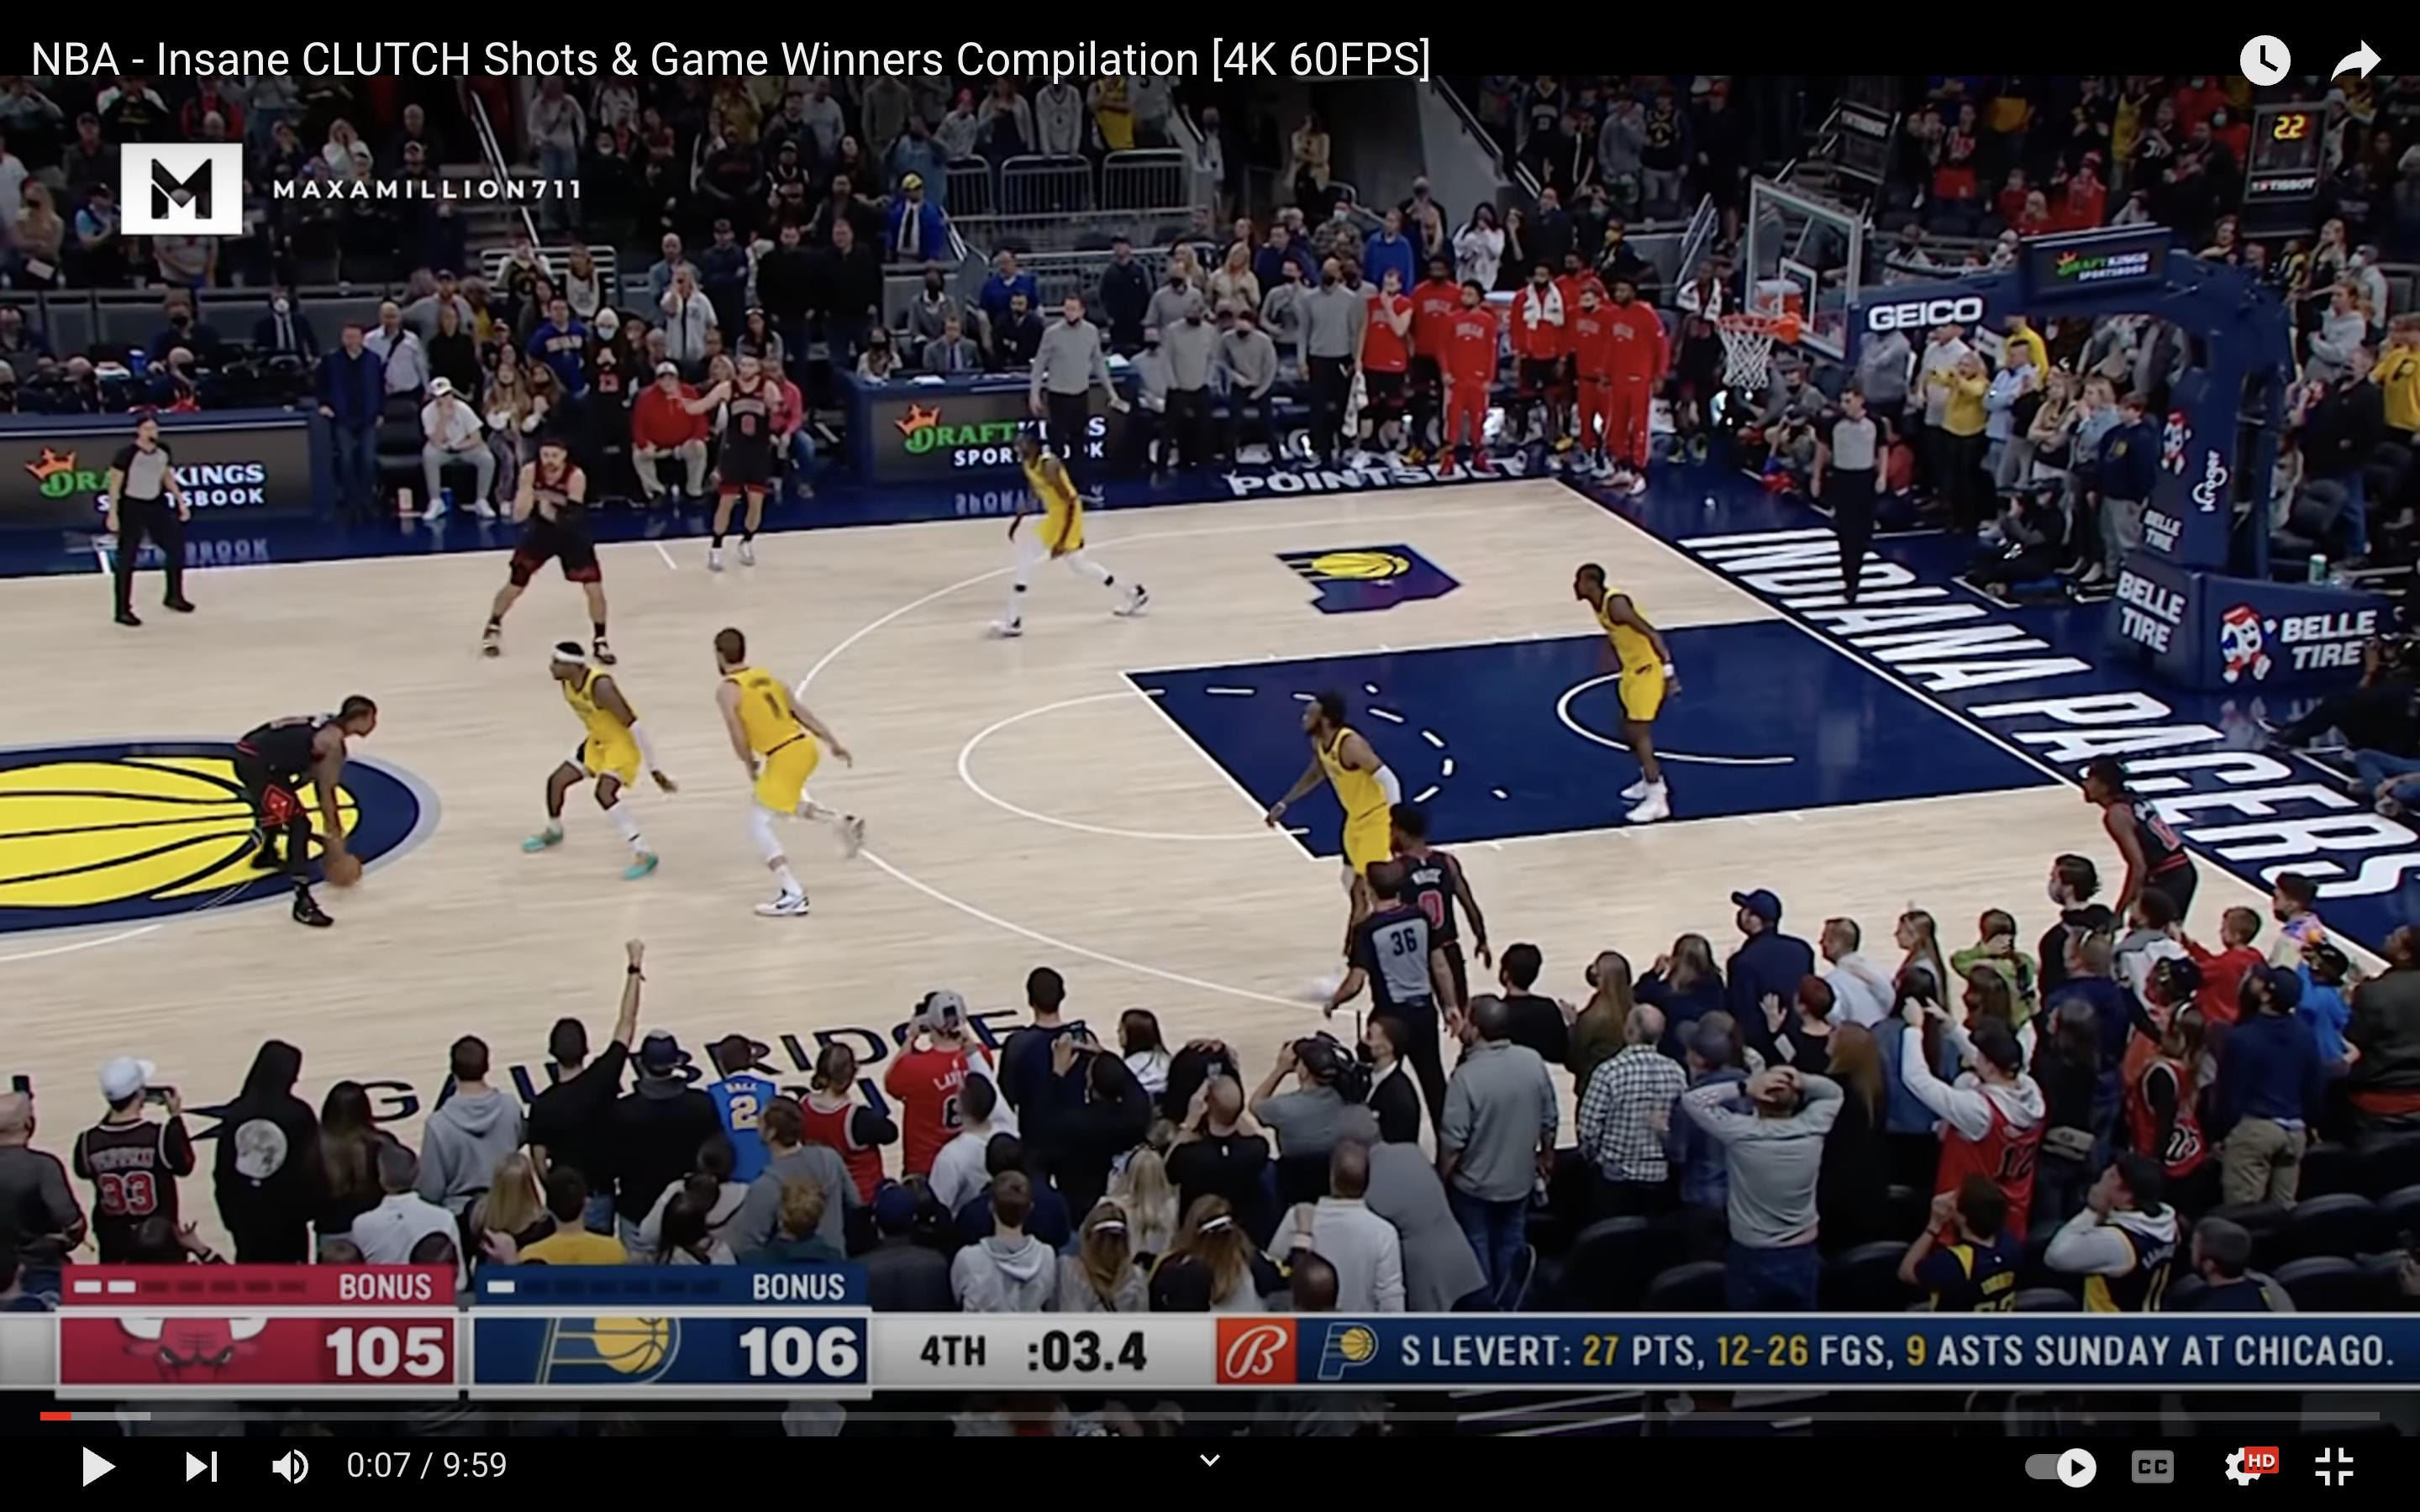Backboard: (1741, 183, 1858, 366)
Ball: (325, 854, 363, 888)
Basket: (1708, 298, 1791, 398)
Dribble: (329, 879, 361, 891)
Person: (689, 626, 873, 925), (212, 685, 387, 937), (525, 640, 676, 893), (996, 427, 1158, 648), (479, 437, 623, 671), (1567, 556, 1681, 829), (691, 340, 792, 587), (1382, 796, 1490, 1011), (1280, 686, 1391, 887), (1808, 381, 1890, 601)
Referee: (1338, 857, 1454, 1094), (101, 412, 205, 629)
Shot Clock: (2248, 88, 2335, 257)
